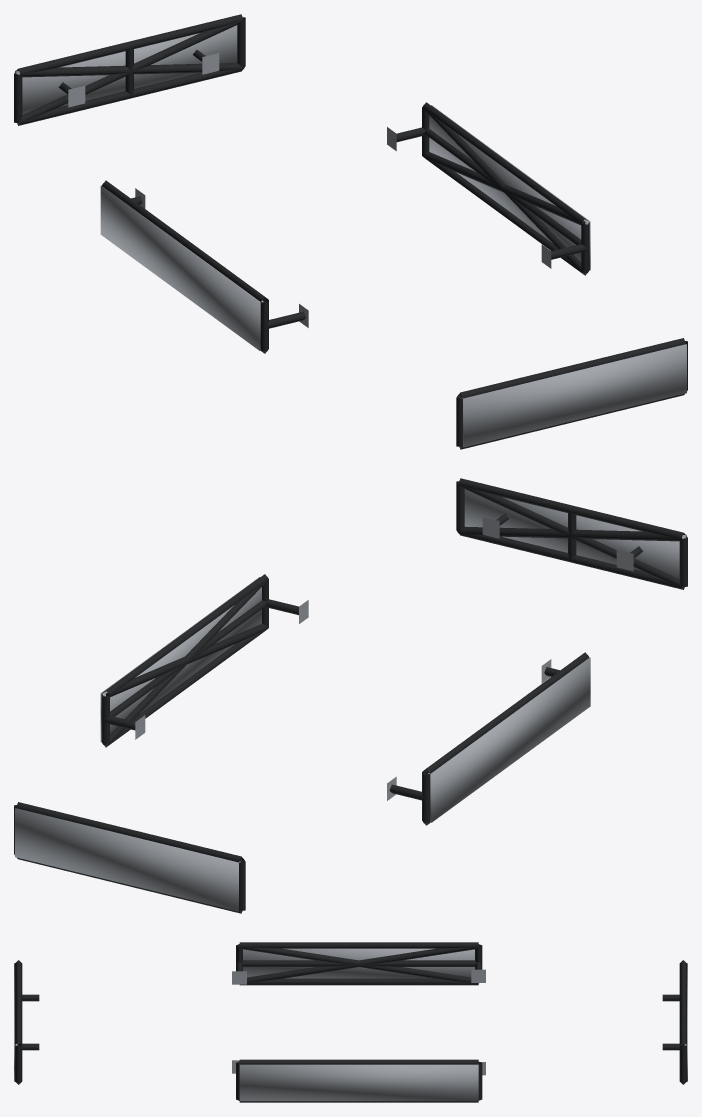
File: ostwerk_aresta_protecao.glb
The picture shows the model from 3 angles, top to bottom: view 1: azimuth 30°, elevation 25°; view 2: azimuth 150°, elevation 25°; view 3: azimuth 270°, elevation 25°; orthographic projection. The views are drawn at different scales.
Visible parts, largest first — view 1: Protection_front_Level3_Details, Protection_left_Level3_Details, Protection_rear_Level1_Details, Protection_rear_Level3_Details, Protection_right_Level1_Details, Protection_right_Level2_Details, Protection_rear_Level2_Details, Protection_right_Level3_Details, Protection_left_Level1_Details, Protection_front_Level1_Details; view 2: Protection_rear_Level3_Details, Protection_left_Level3_Details, Protection_front_Level1_Details, Protection_front_Level3_Details, Protection_right_Level1_Details, Protection_right_Level2_Details, Protection_front_Level2_Details, Protection_right_Level3_Details, Protection_left_Level1_Details, Protection_rear_Level1_Details; view 3: Protection_right_Level3_Details, Protection_left_Level2_Details, Protection_left_Level1_Details, Protection_left_Level3_Details, Protection_right_Level1_Details, Protection_rear_Level1_Details, Protection_front_Level1_Details.
Boxes of the visible parts, x1=… form: Protection_front_Level3_Details: x1=461, y1=344, x2=686, y2=447; Protection_left_Level3_Details: x1=100, y1=185, x2=263, y2=350; Protection_rear_Level1_Details: x1=14, y1=14, x2=245, y2=125; Protection_rear_Level3_Details: x1=15, y1=25, x2=237, y2=114; Protection_right_Level1_Details: x1=387, y1=102, x2=589, y2=275; Protection_right_Level2_Details: x1=422, y1=108, x2=588, y2=274; Protection_rear_Level2_Details: x1=16, y1=20, x2=243, y2=124; Protection_right_Level3_Details: x1=429, y1=105, x2=590, y2=270; Protection_left_Level1_Details: x1=102, y1=180, x2=308, y2=353; Protection_front_Level1_Details: x1=456, y1=338, x2=687, y2=449; Protection_rear_Level3_Details: x1=15, y1=808, x2=240, y2=911; Protection_left_Level3_Details: x1=427, y1=657, x2=590, y2=822; Protection_front_Level1_Details: x1=456, y1=478, x2=687, y2=589; Protection_front_Level3_Details: x1=464, y1=489, x2=686, y2=578; Protection_right_Level1_Details: x1=101, y1=574, x2=308, y2=747; Protection_right_Level2_Details: x1=102, y1=580, x2=268, y2=747; Protection_front_Level2_Details: x1=458, y1=484, x2=685, y2=588; Protection_right_Level3_Details: x1=100, y1=577, x2=261, y2=742; Protection_left_Level1_Details: x1=387, y1=652, x2=589, y2=825; Protection_rear_Level1_Details: x1=14, y1=802, x2=245, y2=913; Protection_right_Level3_Details: x1=239, y1=1064, x2=478, y2=1101; Protection_left_Level2_Details: x1=239, y1=944, x2=478, y2=983; Protection_left_Level1_Details: x1=232, y1=942, x2=485, y2=985; Protection_left_Level3_Details: x1=243, y1=948, x2=474, y2=978; Protection_right_Level1_Details: x1=232, y1=1059, x2=485, y2=1102; Protection_rear_Level1_Details: x1=662, y1=960, x2=686, y2=1084; Protection_front_Level1_Details: x1=15, y1=960, x2=39, y2=1084.
Size of the model in its own units: 2.14 by 0.354 by 5.02.
1 material, 1 textured.
